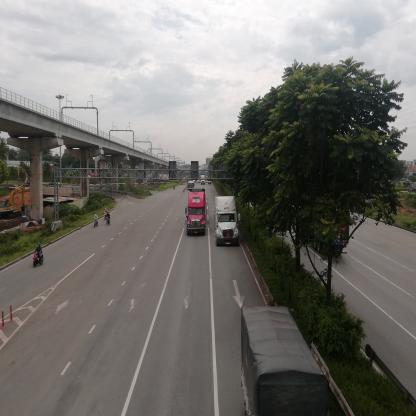container: (216, 196, 241, 248), (186, 190, 208, 237)
motorbike: (34, 245, 46, 267), (107, 212, 113, 227), (95, 215, 100, 227)
truck: (243, 307, 331, 416)
